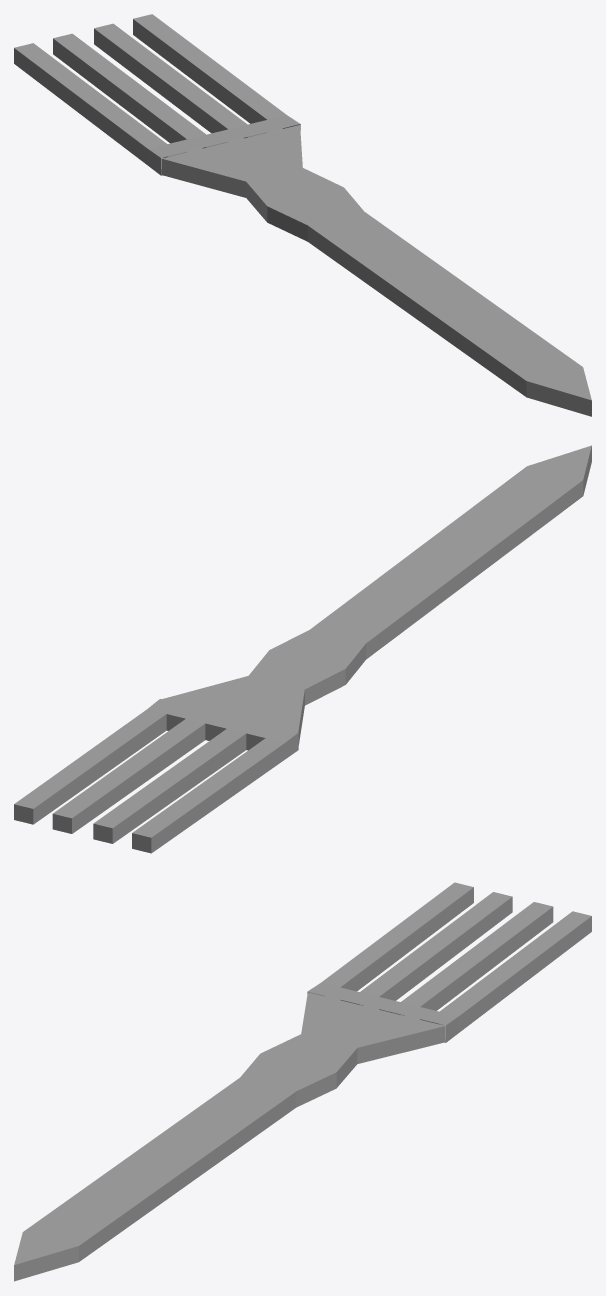
Rendered from Fork_3.fbx.
3 renders of one model, top to bottom at view 1: azimuth 30°, elevation 25°; view 2: azimuth 150°, elevation 25°; view 3: azimuth 330°, elevation 25°, orthographic.
Visible parts, largest first — view 1: Fork_3; view 2: Fork_3; view 3: Fork_3.
Boxes of the visible parts, box(x1,y1,x2,y2) form: Fork_3: box(14, 14, 591, 416); Fork_3: box(14, 445, 591, 853); Fork_3: box(14, 882, 591, 1281).
Size of the model in its own units: 5.32 by 33.73 by 0.8946.
